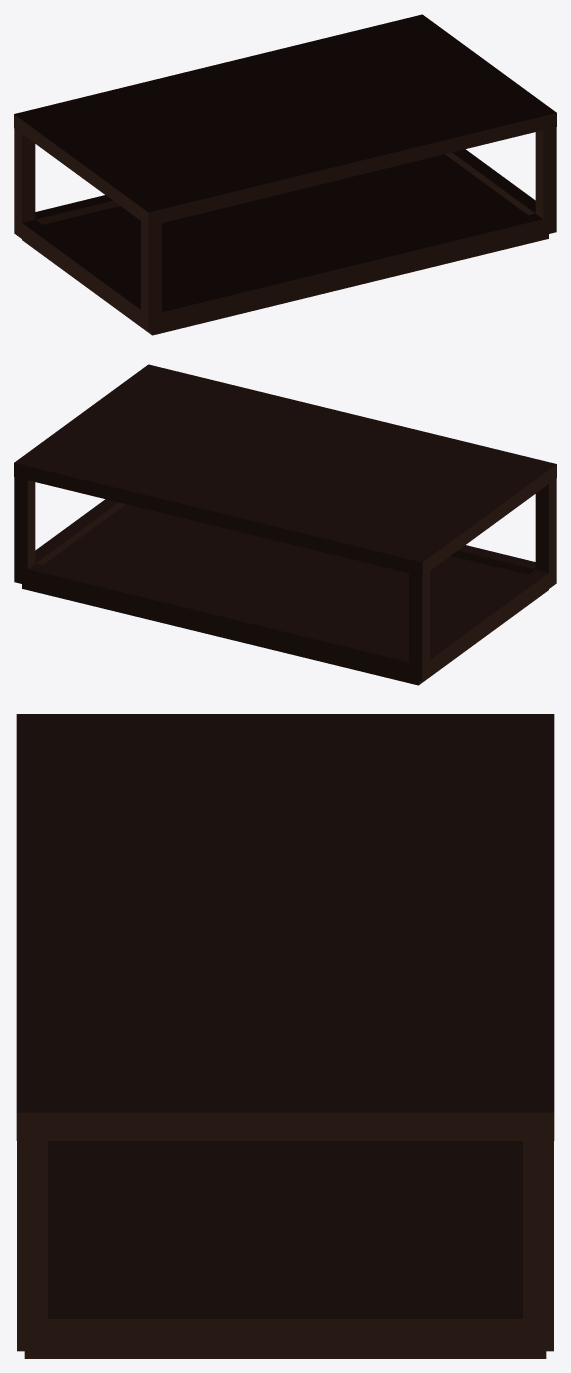
The model's file is Table 5.fbx.
The picture shows the model from 3 angles, top to bottom: view 1: azimuth 30°, elevation 25°; view 2: azimuth 150°, elevation 25°; view 3: azimuth 270°, elevation 25°; orthographic projection. The views are drawn at different scales.
Parts seen in each view (by area): view 1: Node 0; view 2: Node 0; view 3: Node 0.
Boxes of the visible parts, x1,y1,x2,y2 form: Node 0: (14, 14, 556, 335); Node 0: (14, 364, 556, 685); Node 0: (16, 714, 554, 1358).
Size of the model in its own units: 1.57 by 0.8126 by 2.76.
